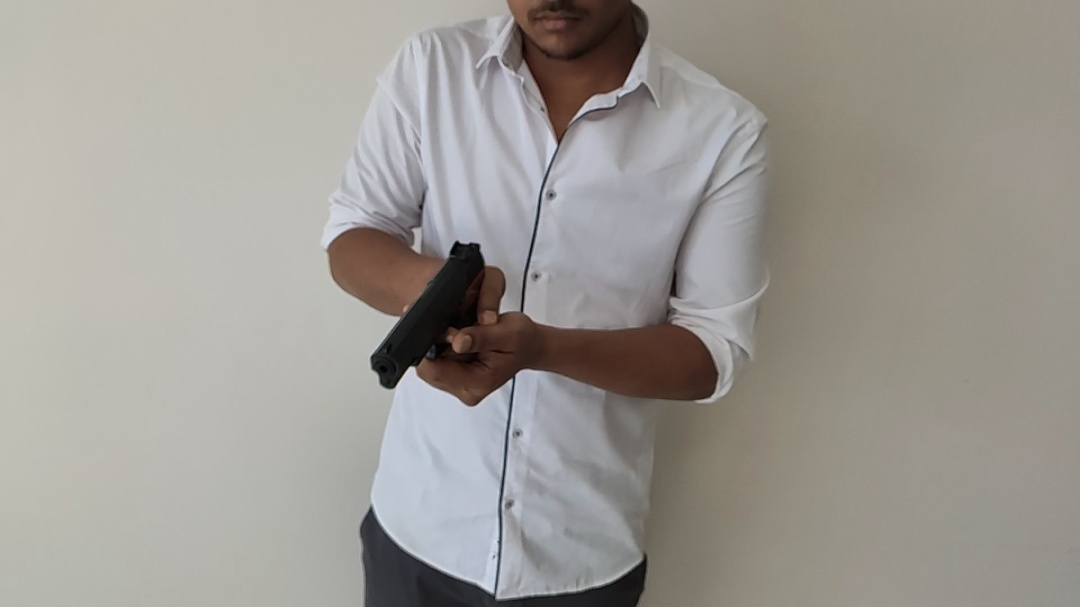gun: (369, 239, 487, 391)
